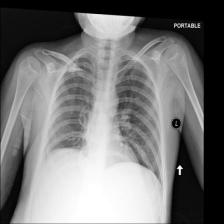normal: (39, 42, 168, 201)
